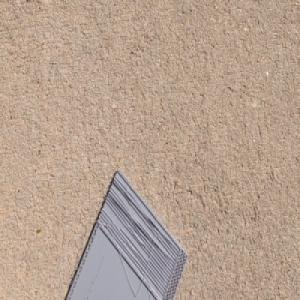PlasticPart: (63, 166, 191, 300)
